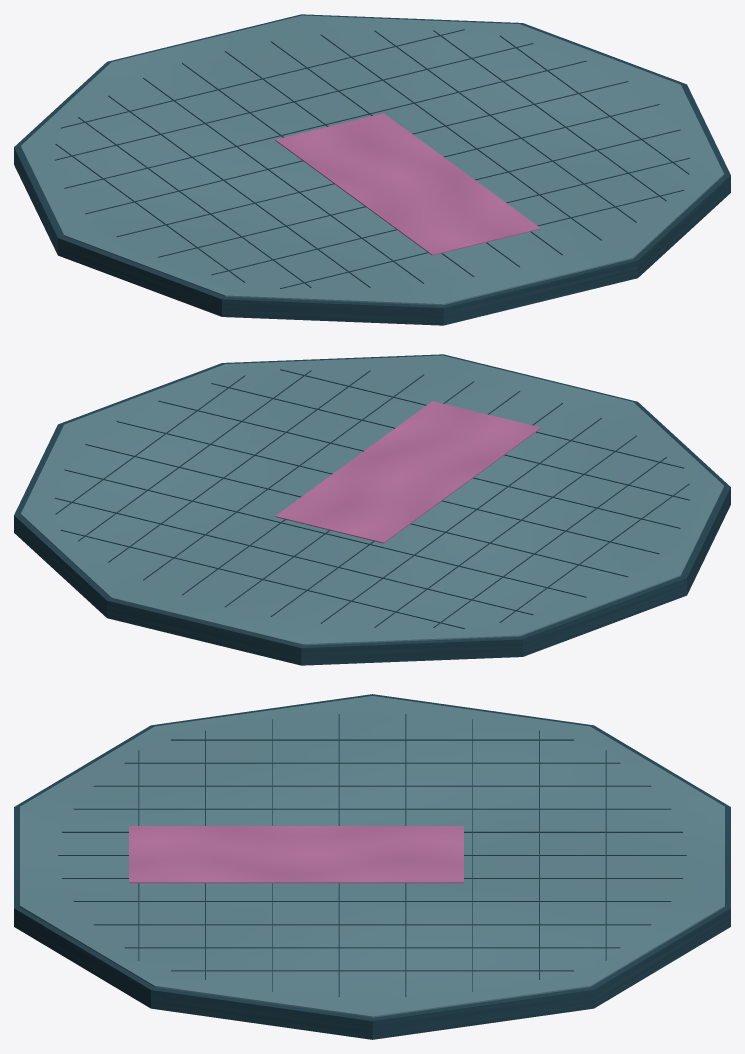
File: atlas100-s063-a07.glb
3 renders of one model, top to bottom at view 1: azimuth 30°, elevation 25°; view 2: azimuth 150°, elevation 25°; view 3: azimuth 270°, elevation 25°, orthographic. The views are drawn at different scales.
Visible parts, largest first — view 1: atlas100-s063-a07:part-001, atlas100-s063-a07:part-000, atlas100-s063-a07:part-021, atlas100-s063-a07:part-015, atlas100-s063-a07:part-014, atlas100-s063-a07:part-017, atlas100-s063-a07:part-016, atlas100-s063-a07:part-018, atlas100-s063-a07:part-013, atlas100-s063-a07:part-019, atlas100-s063-a07:part-009, atlas100-s063-a07:part-005 (+2 smaller); view 2: atlas100-s063-a07:part-001, atlas100-s063-a07:part-000, atlas100-s063-a07:part-021, atlas100-s063-a07:part-015, atlas100-s063-a07:part-014, atlas100-s063-a07:part-016, atlas100-s063-a07:part-017, atlas100-s063-a07:part-018, atlas100-s063-a07:part-013, atlas100-s063-a07:part-019, atlas100-s063-a07:part-009, atlas100-s063-a07:part-005 (+3 smaller); view 3: atlas100-s063-a07:part-001, atlas100-s063-a07:part-000, atlas100-s063-a07:part-021, atlas100-s063-a07:part-005, atlas100-s063-a07:part-004, atlas100-s063-a07:part-010, atlas100-s063-a07:part-003, atlas100-s063-a07:part-011, atlas100-s063-a07:part-002, atlas100-s063-a07:part-012, atlas100-s063-a07:part-009, atlas100-s063-a07:part-006.
Part boxes in pixels (bbox=[...]): atlas100-s063-a07:part-001: bbox=[20, 15, 724, 305]; atlas100-s063-a07:part-000: bbox=[14, 14, 730, 325]; atlas100-s063-a07:part-021: bbox=[275, 113, 540, 255]; atlas100-s063-a07:part-015: bbox=[64, 60, 586, 188]; atlas100-s063-a07:part-014: bbox=[55, 43, 533, 160]; atlas100-s063-a07:part-017: bbox=[116, 104, 659, 237]; atlas100-s063-a07:part-016: bbox=[85, 81, 628, 214]; atlas100-s063-a07:part-018: bbox=[158, 129, 680, 257]; atlas100-s063-a07:part-013: bbox=[61, 29, 464, 128]; atlas100-s063-a07:part-019: bbox=[211, 157, 690, 275]; atlas100-s063-a07:part-009: bbox=[320, 34, 601, 240]; atlas100-s063-a07:part-005: bbox=[143, 77, 424, 283]; atlas100-s063-a07:part-001: bbox=[20, 355, 724, 645]; atlas100-s063-a07:part-000: bbox=[14, 354, 730, 665]; atlas100-s063-a07:part-021: bbox=[275, 401, 540, 543]; atlas100-s063-a07:part-015: bbox=[64, 469, 586, 597]; atlas100-s063-a07:part-014: bbox=[54, 497, 533, 615]; atlas100-s063-a07:part-016: bbox=[85, 444, 628, 577]; atlas100-s063-a07:part-017: bbox=[116, 421, 659, 554]; atlas100-s063-a07:part-018: bbox=[158, 400, 680, 528]; atlas100-s063-a07:part-013: bbox=[60, 529, 464, 628]; atlas100-s063-a07:part-019: bbox=[211, 383, 689, 500]; atlas100-s063-a07:part-009: bbox=[143, 374, 424, 580]; atlas100-s063-a07:part-005: bbox=[320, 417, 601, 623]; atlas100-s063-a07:part-001: bbox=[20, 696, 724, 1017]; atlas100-s063-a07:part-000: bbox=[14, 694, 730, 1039]; atlas100-s063-a07:part-021: bbox=[129, 826, 463, 883]; atlas100-s063-a07:part-005: bbox=[73, 808, 671, 809]; atlas100-s063-a07:part-004: bbox=[93, 785, 651, 786]; atlas100-s063-a07:part-010: bbox=[93, 924, 651, 925]; atlas100-s063-a07:part-003: bbox=[124, 762, 620, 763]; atlas100-s063-a07:part-011: bbox=[124, 947, 620, 948]; atlas100-s063-a07:part-002: bbox=[171, 739, 573, 740]; atlas100-s063-a07:part-012: bbox=[171, 970, 573, 971]; atlas100-s063-a07:part-009: bbox=[73, 901, 671, 901]; atlas100-s063-a07:part-006: bbox=[62, 831, 682, 832].
Size of the model in its own units: 12.75 by 0.404 by 11.81.
Materials: 3 (3 with a texture image).
